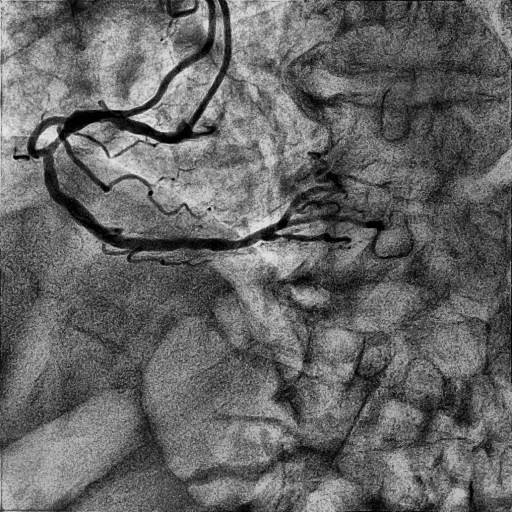pborca: (269, 177, 342, 232)
pda: (266, 233, 351, 244)
rca: (42, 110, 274, 252)
